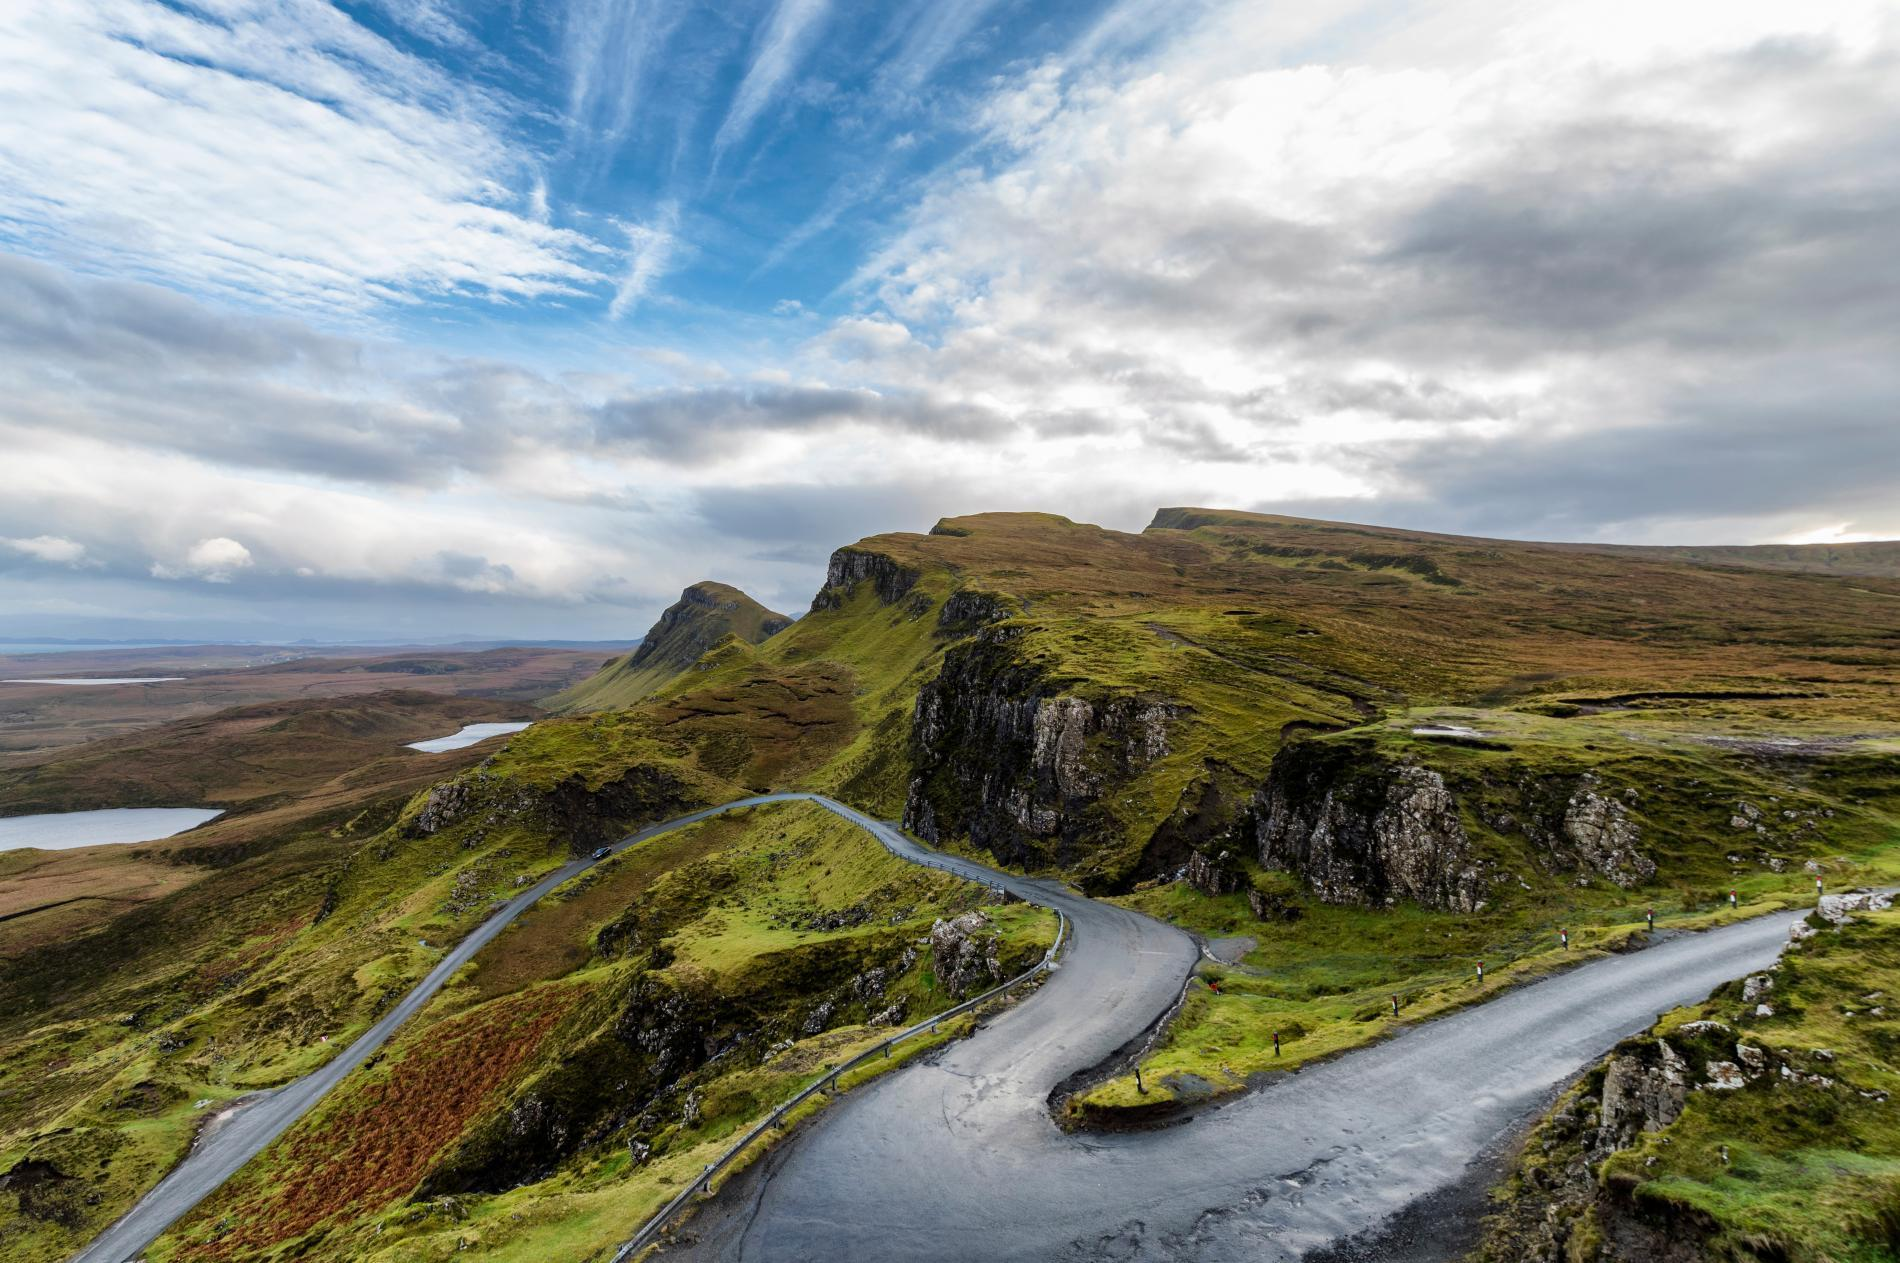cloud: (0, 249, 846, 560)
lake: (0, 751, 278, 956), (309, 663, 616, 820)
